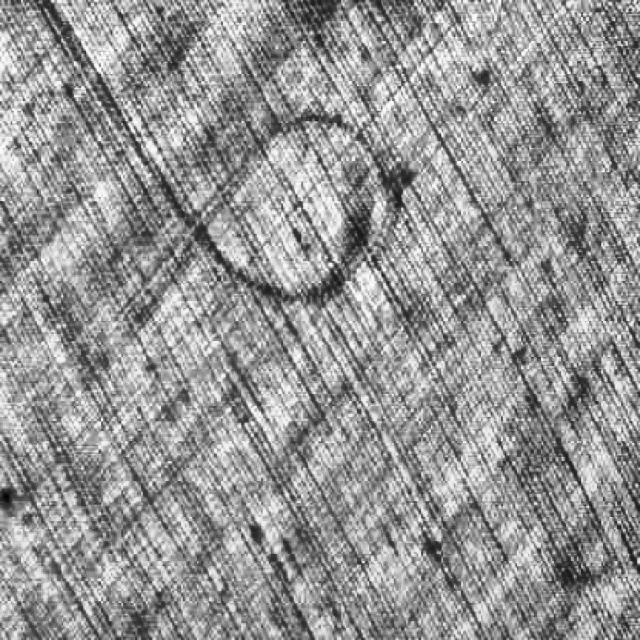objects: (197, 104, 416, 317), (36, 3, 196, 226), (79, 227, 200, 345)
